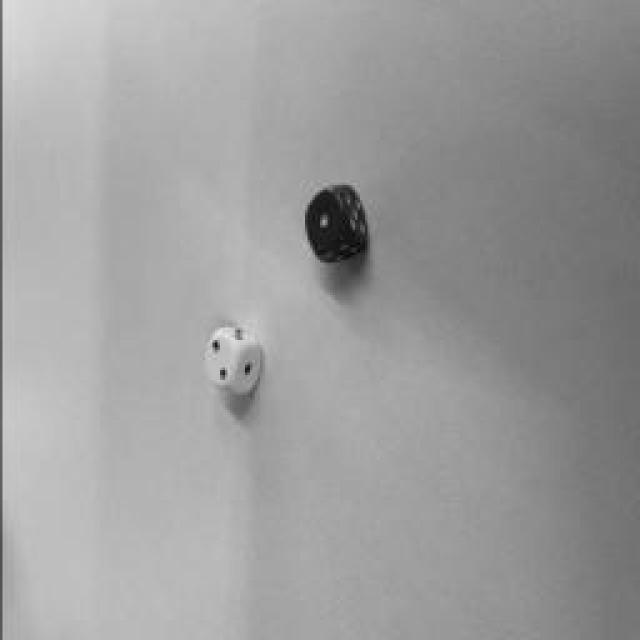dice_1: (304, 189, 344, 251)
dice_2: (205, 332, 235, 388)
